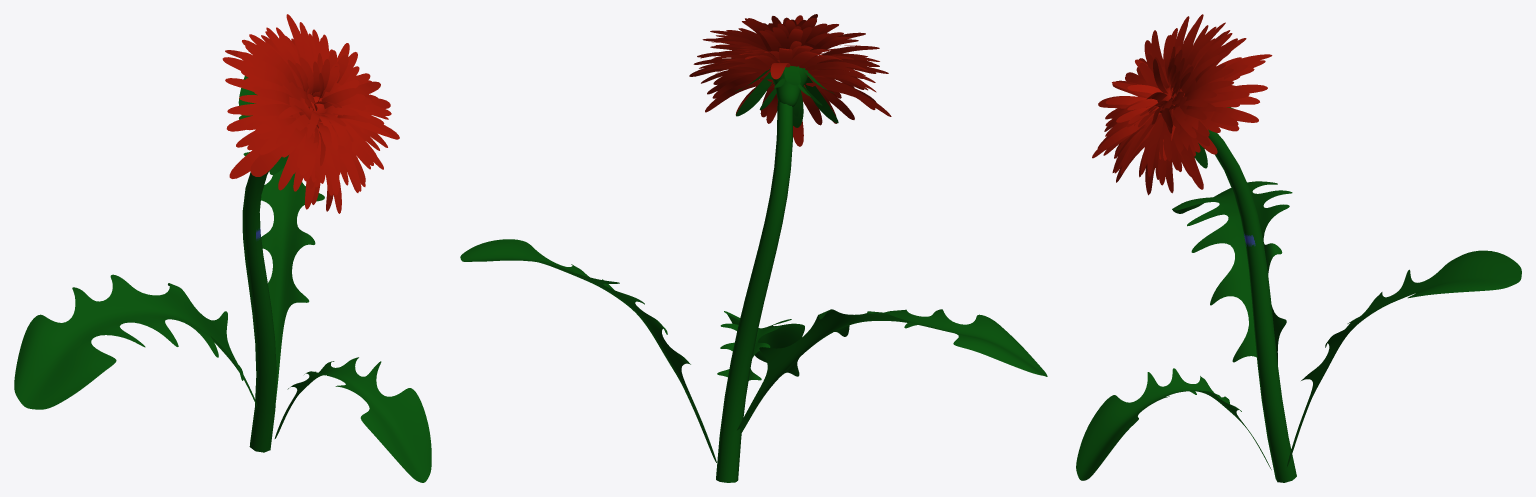
File: plants-dandelion.glb
The picture shows the model from 3 angles, left to right: view 1: azimuth 30°, elevation 25°; view 2: azimuth 150°, elevation 25°; view 3: azimuth 270°, elevation 25°; orthographic projection. The views are drawn at different scales.
Visible parts, largest first — view 1: node_id13, node_id25, node_id21, node_id6, node_id17; view 2: node_id13, node_id6, node_id25, node_id17, node_id10, node_id21; view 3: node_id13, node_id6, node_id25, node_id17, node_id21.
Boxes of the visible parts, bbox=[...] form: node_id13: bbox=[222, 14, 399, 213]; node_id25: bbox=[14, 274, 257, 409]; node_id21: bbox=[274, 357, 431, 482]; node_id6: bbox=[242, 171, 276, 452]; node_id17: bbox=[238, 76, 324, 402]; node_id13: bbox=[689, 14, 891, 146]; node_id6: bbox=[716, 100, 793, 482]; node_id25: bbox=[737, 309, 1047, 434]; node_id17: bbox=[460, 239, 716, 462]; node_id10: bbox=[735, 65, 838, 127]; node_id21: bbox=[717, 311, 804, 380]; node_id13: bbox=[1092, 14, 1272, 195]; node_id6: bbox=[1208, 129, 1296, 482]; node_id25: bbox=[1172, 181, 1292, 364]; node_id17: bbox=[1287, 250, 1521, 466]; node_id21: bbox=[1076, 368, 1271, 480].
Size of the model in its own units: 0.0778 by 0.0759 by 0.0694.
6 materials, 6 textured.
